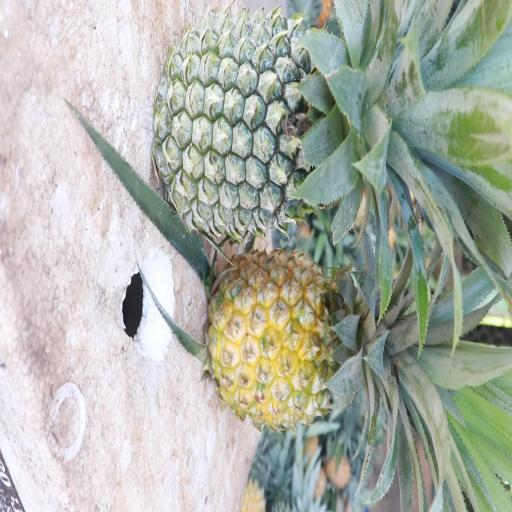Pineapple - v8 v1: (208, 246, 480, 494)
